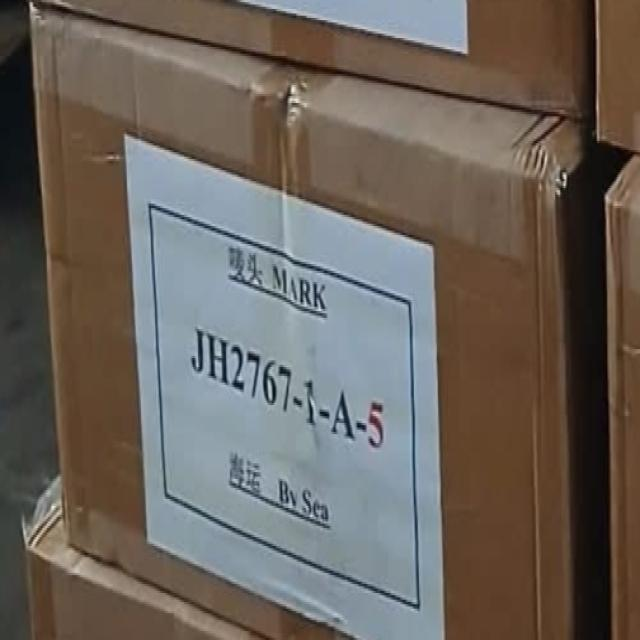carton_box: (20, 0, 605, 640)
export_mark_label: (131, 188, 445, 631)
package_damage: (272, 71, 312, 135), (546, 158, 582, 218)
